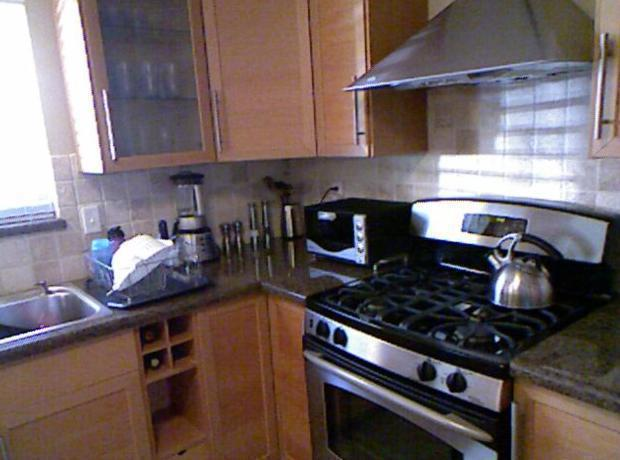Electrodomestico: (305, 196, 610, 457)
